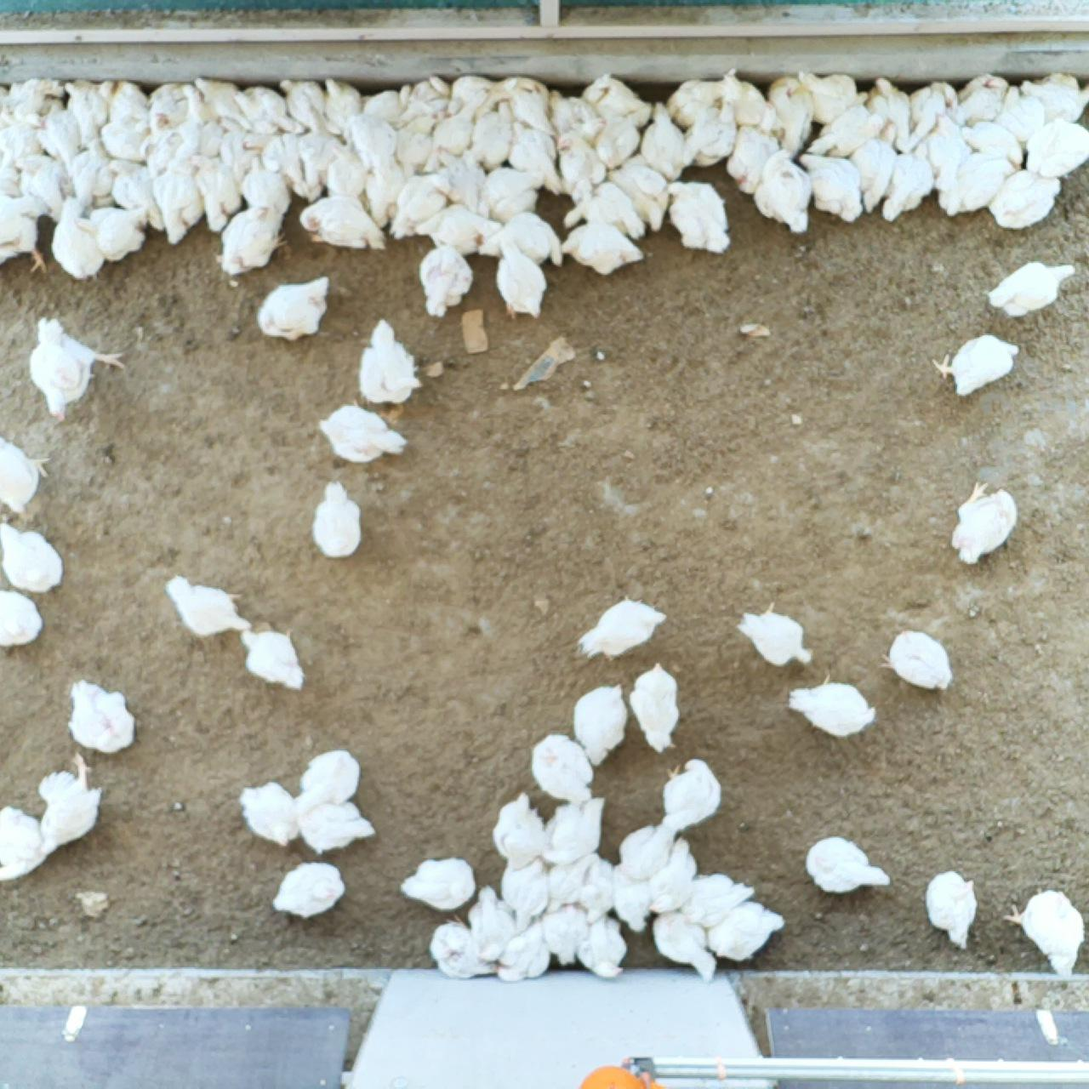chicken: (28, 313, 125, 422), (1008, 881, 1084, 976), (34, 754, 104, 850), (789, 668, 881, 741), (805, 824, 896, 895), (602, 149, 673, 234), (748, 146, 815, 234), (932, 333, 1025, 396), (574, 596, 667, 659), (660, 179, 734, 257), (950, 481, 1015, 569), (987, 257, 1079, 319), (67, 674, 137, 755), (738, 601, 817, 671), (727, 98, 782, 197), (0, 516, 68, 595), (794, 150, 865, 225), (490, 228, 549, 318), (309, 479, 371, 564), (256, 272, 330, 342), (164, 574, 248, 635), (536, 795, 610, 864), (559, 216, 644, 276), (846, 119, 899, 215), (649, 905, 718, 978), (360, 319, 420, 402), (427, 915, 500, 982), (878, 139, 935, 224), (479, 212, 567, 267), (47, 197, 106, 279), (398, 854, 480, 913), (629, 659, 681, 752), (302, 193, 388, 249), (502, 118, 566, 193), (238, 625, 308, 693), (571, 681, 627, 766), (562, 183, 645, 240), (388, 166, 451, 241), (292, 748, 363, 814), (0, 425, 52, 515), (939, 154, 1013, 217), (924, 870, 982, 950), (529, 731, 595, 801), (218, 207, 283, 278), (152, 153, 201, 247), (416, 239, 475, 317), (882, 628, 954, 691), (986, 171, 1060, 232), (101, 154, 160, 230), (804, 101, 884, 157), (490, 789, 544, 871), (766, 71, 815, 161), (703, 905, 786, 958), (496, 915, 558, 985), (319, 404, 407, 453), (1021, 116, 1089, 179), (84, 203, 153, 265), (947, 68, 1012, 133), (14, 152, 74, 222), (682, 101, 741, 172), (414, 204, 499, 253), (0, 804, 52, 884), (189, 154, 243, 231), (300, 801, 377, 855), (237, 777, 298, 845), (491, 73, 561, 131), (1017, 72, 1089, 128), (269, 863, 341, 919), (679, 872, 753, 926), (666, 75, 728, 139), (649, 838, 701, 914), (436, 142, 490, 215), (0, 193, 48, 275), (464, 884, 517, 958), (554, 129, 609, 200), (667, 756, 722, 827), (613, 818, 673, 883), (422, 101, 479, 169), (362, 152, 415, 225), (640, 100, 688, 180), (865, 75, 914, 153), (906, 80, 961, 148), (959, 115, 1025, 170), (793, 68, 864, 119), (535, 901, 590, 966), (342, 111, 398, 174), (540, 849, 593, 915), (478, 160, 538, 218), (387, 72, 449, 127), (586, 74, 651, 126), (230, 78, 287, 135), (63, 78, 110, 147), (577, 912, 626, 978), (238, 155, 291, 216), (471, 96, 516, 166), (543, 89, 601, 143), (261, 131, 308, 197), (576, 849, 619, 920), (721, 71, 773, 129), (994, 83, 1044, 142), (499, 857, 543, 924), (300, 123, 342, 193), (319, 73, 367, 134), (63, 145, 115, 201), (611, 862, 653, 931), (393, 110, 442, 169), (7, 77, 63, 127), (193, 74, 247, 125), (325, 139, 367, 204), (37, 98, 78, 164), (358, 80, 414, 128), (925, 110, 965, 177), (593, 106, 636, 168), (217, 113, 258, 178), (174, 83, 209, 157), (278, 77, 328, 128), (0, 588, 42, 647), (95, 115, 150, 160), (444, 72, 496, 116), (194, 107, 236, 161), (101, 80, 154, 122), (141, 125, 180, 175), (144, 81, 190, 123), (0, 108, 41, 155), (0, 145, 22, 197)
